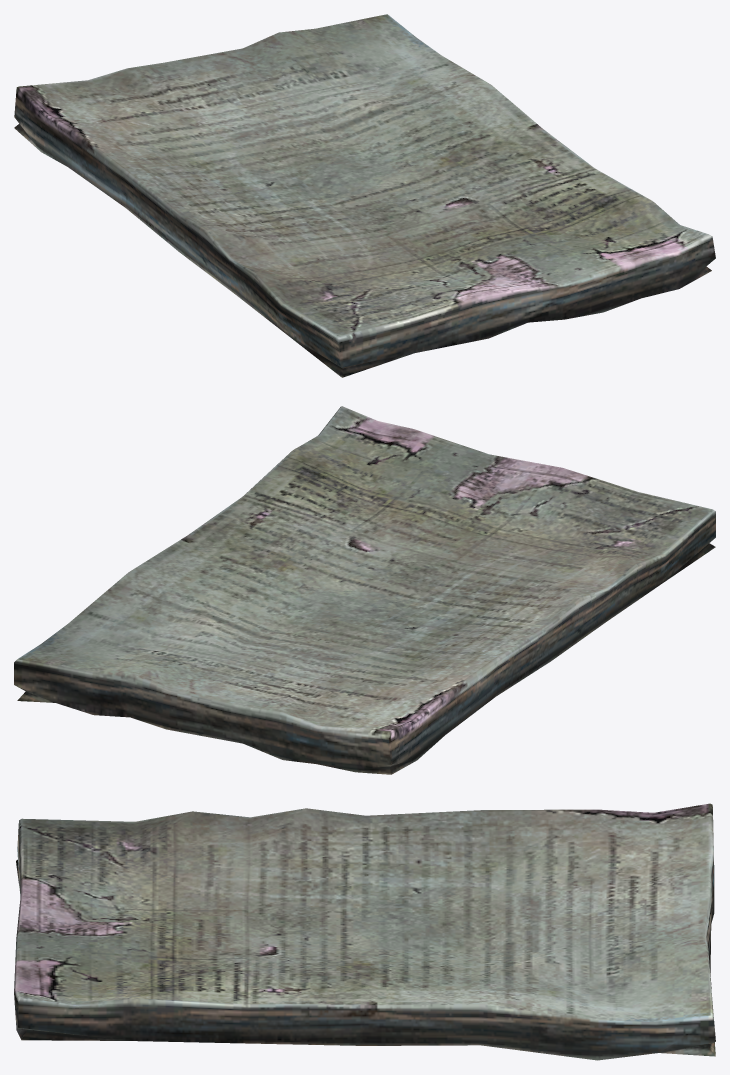
File: paper01.FBX
3 renders of one model, top to bottom at view 1: azimuth 30°, elevation 25°; view 2: azimuth 150°, elevation 25°; view 3: azimuth 270°, elevation 25°, orthographic. The views are drawn at different scales.
Parts seen in each view (by area): view 1: SM_Paper01; view 2: SM_Paper01; view 3: SM_Paper01.
Boxes of the visible parts, left/top/right/bottom form: SM_Paper01: left=14, top=14, right=715, bottom=377; SM_Paper01: left=14, top=406, right=715, bottom=774; SM_Paper01: left=14, top=803, right=715, bottom=1060.
Bounding box in the file's own units: 20.93 × 3.53 × 31.19.
Materials: 1 (1 with a texture image).
